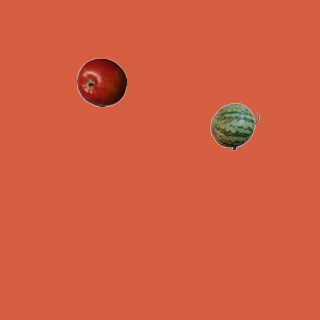Apple Braeburn: (76, 57, 126, 107)
Watermelon: (209, 101, 259, 151)
